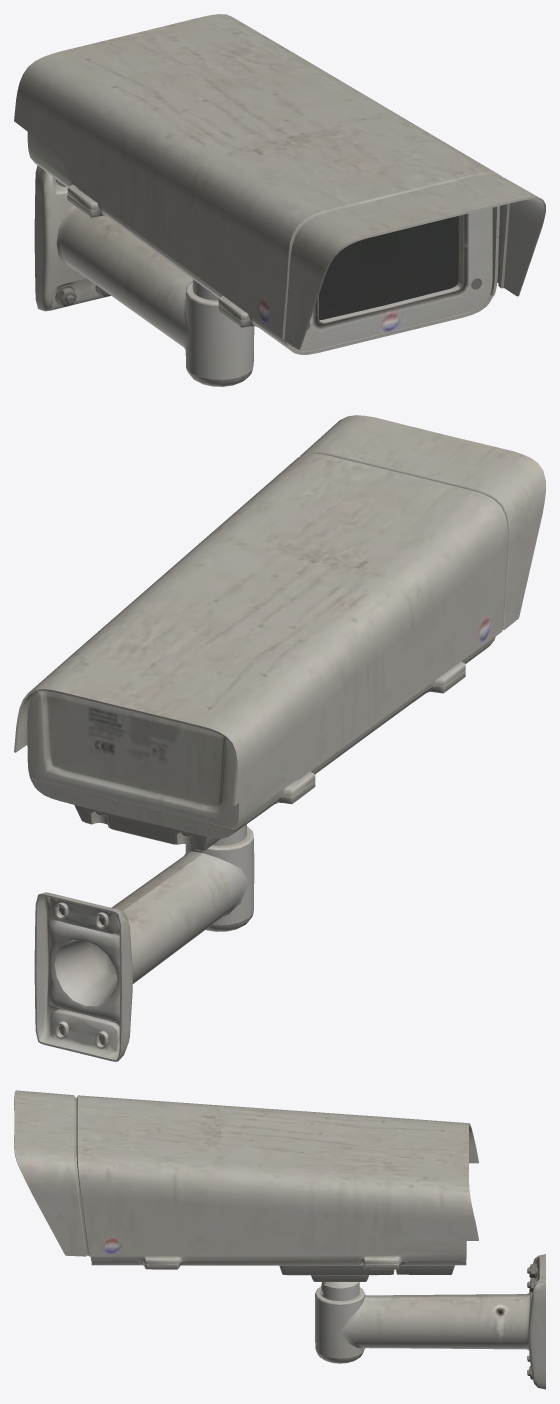
The model's file is security_camera_02.glb.
3 renders of one model, top to bottom at view 1: azimuth 30°, elevation 25°; view 2: azimuth 150°, elevation 25°; view 3: azimuth 270°, elevation 25°, orthographic. The views are drawn at different scales.
Visible parts, largest first — view 1: security_camera_02_mount, security_camera_02; view 2: security_camera_02_mount; view 3: security_camera_02_mount.
Part boxes in pixels (box(x1,y1,x2,y2)): security_camera_02_mount: box(14, 14, 545, 386); security_camera_02: box(319, 216, 458, 319); security_camera_02_mount: box(14, 415, 545, 1061); security_camera_02_mount: box(14, 1090, 545, 1389).
Size of the model in its own units: 0.1407 by 0.2086 by 0.3938.
Materials: 2 (2 with a texture image).
